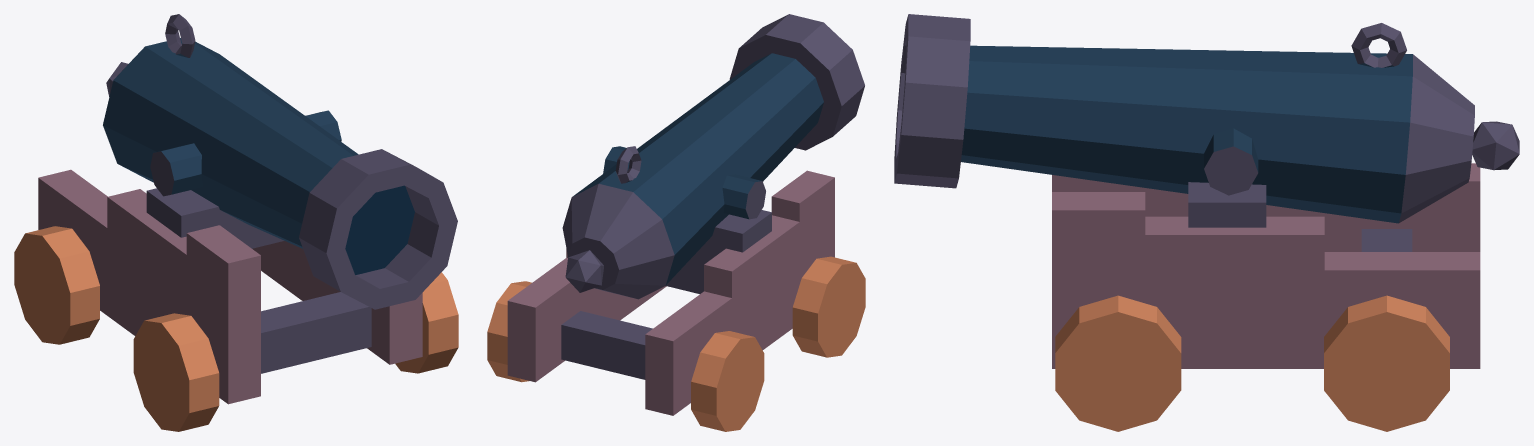
The model's file is cannon.glb.
3 views of the same model, side by side, from view 1: azimuth 30°, elevation 25°; view 2: azimuth 150°, elevation 25°; view 3: azimuth 270°, elevation 25° (orthographic). The views are drawn at different scales.
Visible parts, largest first — view 1: Carriage, Barrel; view 2: Carriage, Barrel; view 3: Carriage, Barrel.
Boxes of the visible parts, bbox=[...] form: Carriage: bbox=[14, 169, 458, 431]; Barrel: bbox=[103, 14, 457, 309]; Carriage: bbox=[487, 170, 865, 431]; Barrel: bbox=[562, 14, 864, 299]; Carriage: bbox=[1052, 163, 1480, 431]; Barrel: bbox=[894, 14, 1519, 223].
Bounding box in the file's own units: 0.9 × 0.9494 × 1.61.
